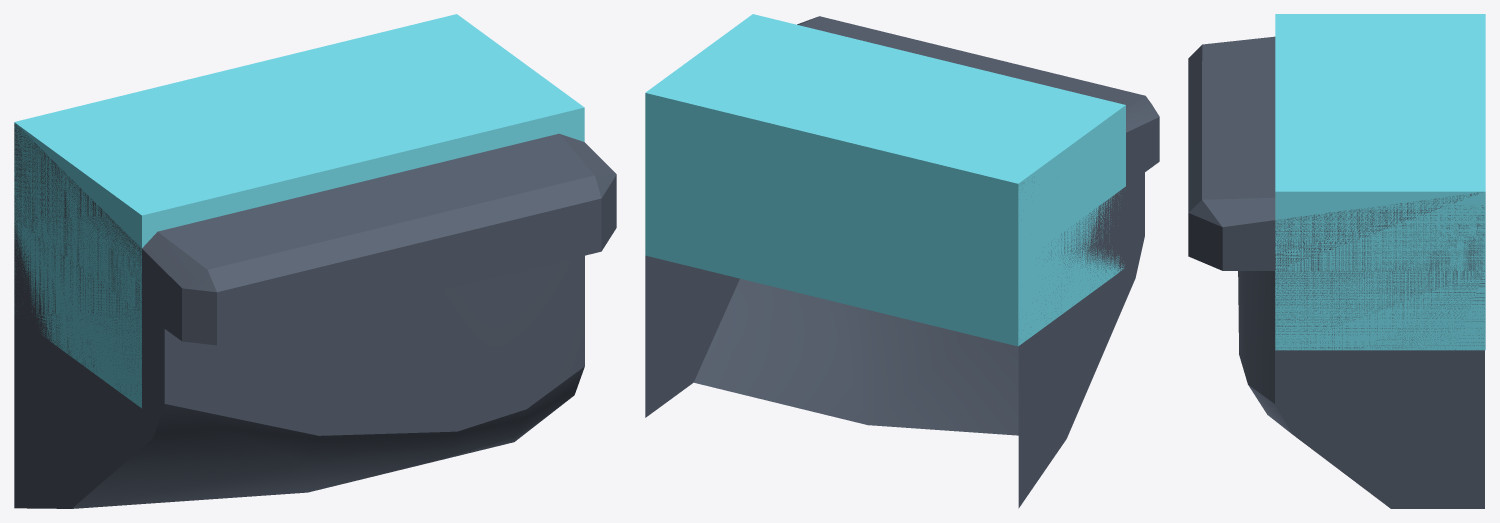
File: PBOX_FlA_BOD_01.FBX
3 views of the same model, side by side, from view 1: azimuth 30°, elevation 25°; view 2: azimuth 150°, elevation 25°; view 3: azimuth 270°, elevation 25° (orthographic). The views are drawn at different scales.
Visible parts, largest first — view 1: PBOX1_SUB_FlA_BOD_002, PBOX_FlA_BOD_01; view 2: PBOX_FlA_BOD_01, PBOX1_SUB_FlA_BOD_002; view 3: PBOX_FlA_BOD_01, PBOX1_SUB_FlA_BOD_002.
Boxes of the visible parts, x1,y1,x2,y2 form: PBOX1_SUB_FlA_BOD_002: [14, 124, 616, 508]; PBOX_FlA_BOD_01: [14, 14, 584, 408]; PBOX_FlA_BOD_01: [645, 14, 1125, 346]; PBOX1_SUB_FlA_BOD_002: [645, 16, 1159, 508]; PBOX_FlA_BOD_01: [1275, 14, 1485, 350]; PBOX1_SUB_FlA_BOD_002: [1188, 36, 1484, 508].
Bounding box in the file's own units: 6 × 5 × 4.24.
